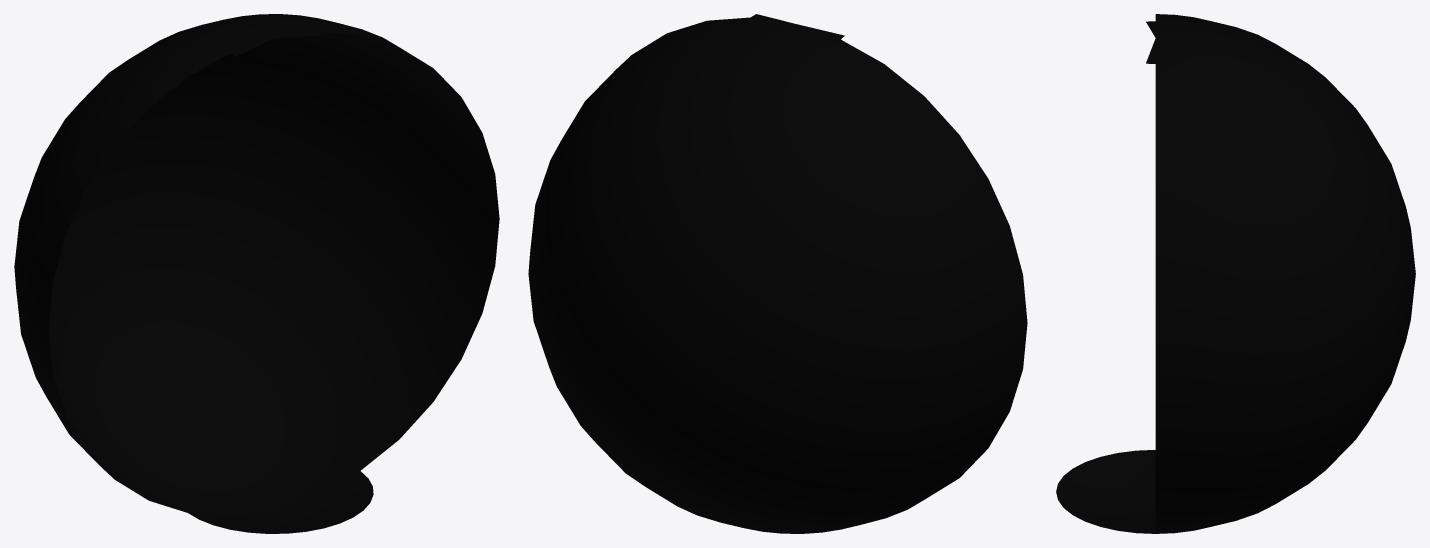
File: background_sky.obj
3 renders of one model, left to right at view 1: azimuth 30°, elevation 25°; view 2: azimuth 150°, elevation 25°; view 3: azimuth 270°, elevation 25°, orthographic. The views are drawn at different scales.
Visible parts, largest first — view 1: 球.001; view 2: 球.001; view 3: 球.001.
Part boxes in pixels (x1,y1,x2,y2): 球.001: (14,14,499,533); 球.001: (528,14,1027,533); 球.001: (1056,14,1415,533).
Bounding box in the file's own units: 1097 × 1097 × 758.
